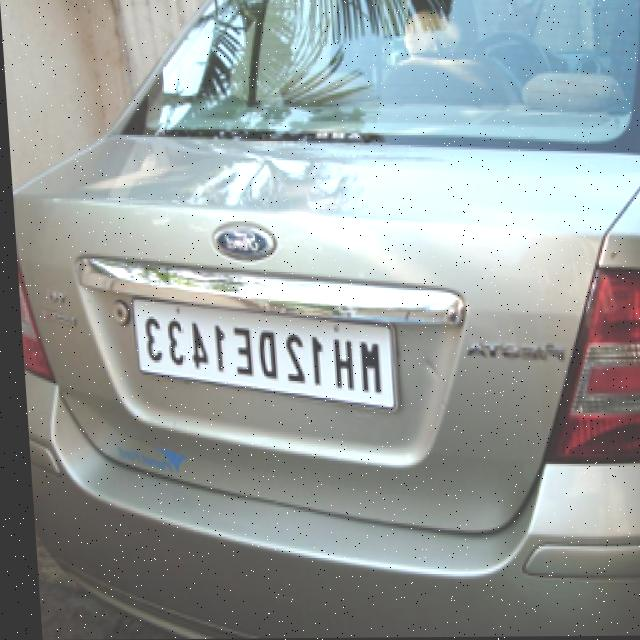plate: (126, 293, 392, 415)
